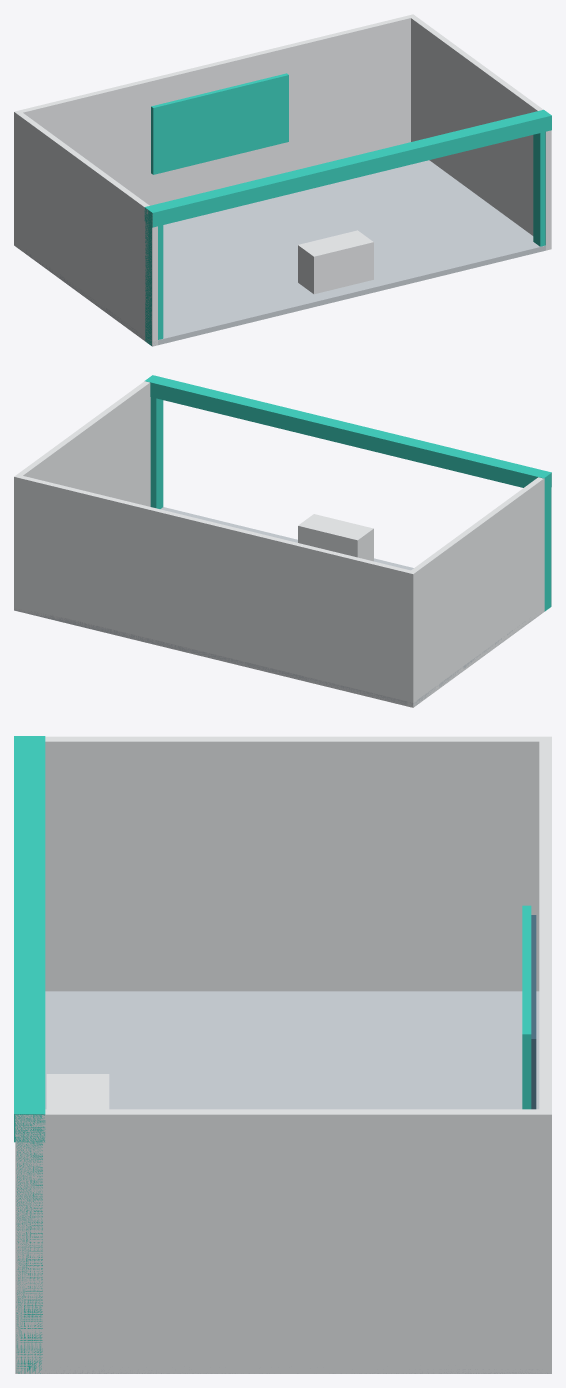
3 views of the same model, one above another, from view 1: azimuth 30°, elevation 25°; view 2: azimuth 150°, elevation 25°; view 3: azimuth 270°, elevation 25° (orthographic). The views are drawn at different scales.
Parts seen in each view (by area): view 1: Exhibition Booth Concept; view 2: Exhibition Booth Concept; view 3: Exhibition Booth Concept.
Part boxes in pixels (bbox=[...]): Exhibition Booth Concept: bbox=[14, 14, 551, 346]; Exhibition Booth Concept: bbox=[14, 375, 551, 707]; Exhibition Booth Concept: bbox=[14, 736, 551, 1373].
Size of the model in its own units: 10 by 3.2 by 6.02.
